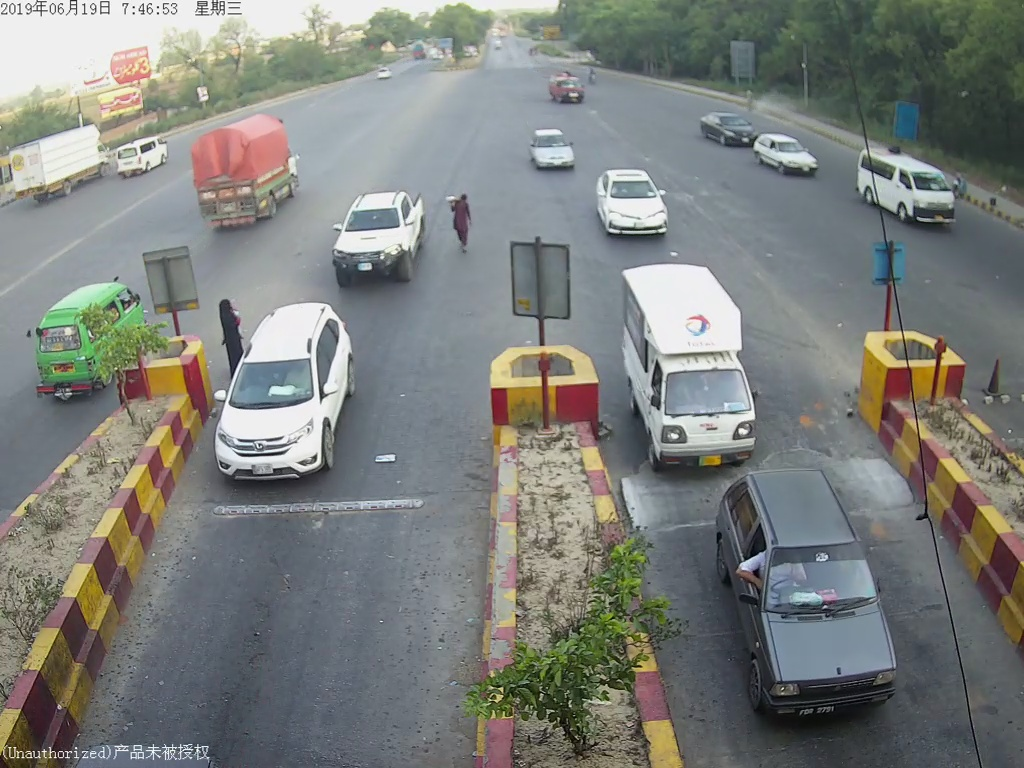Cat-1: (714, 471, 907, 720), (619, 261, 768, 453), (214, 302, 363, 485), (331, 190, 431, 285), (600, 164, 680, 244), (531, 132, 573, 168)
